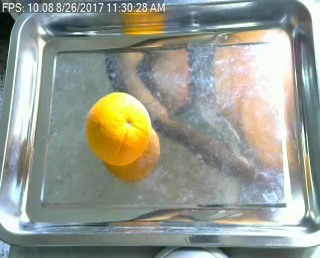Orange: (81, 90, 151, 166)
